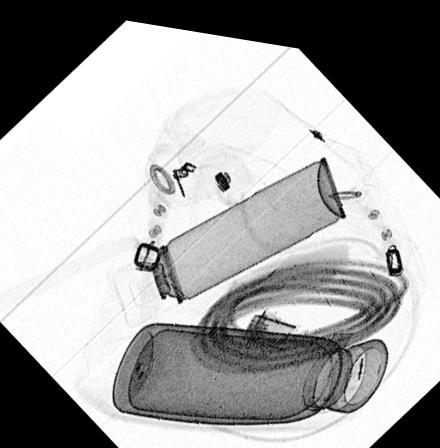Sprayer: (108, 145, 346, 323)
